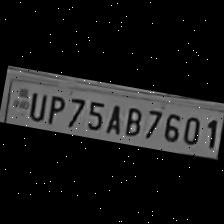0: (177, 110, 202, 144)
1: (198, 114, 222, 149)
5: (80, 96, 106, 130)
6: (158, 108, 182, 143)
7: (139, 104, 164, 140), (62, 91, 84, 127)
A: (102, 98, 126, 134)
B: (118, 100, 142, 136)
P: (40, 88, 66, 124)
U: (23, 86, 48, 120)
